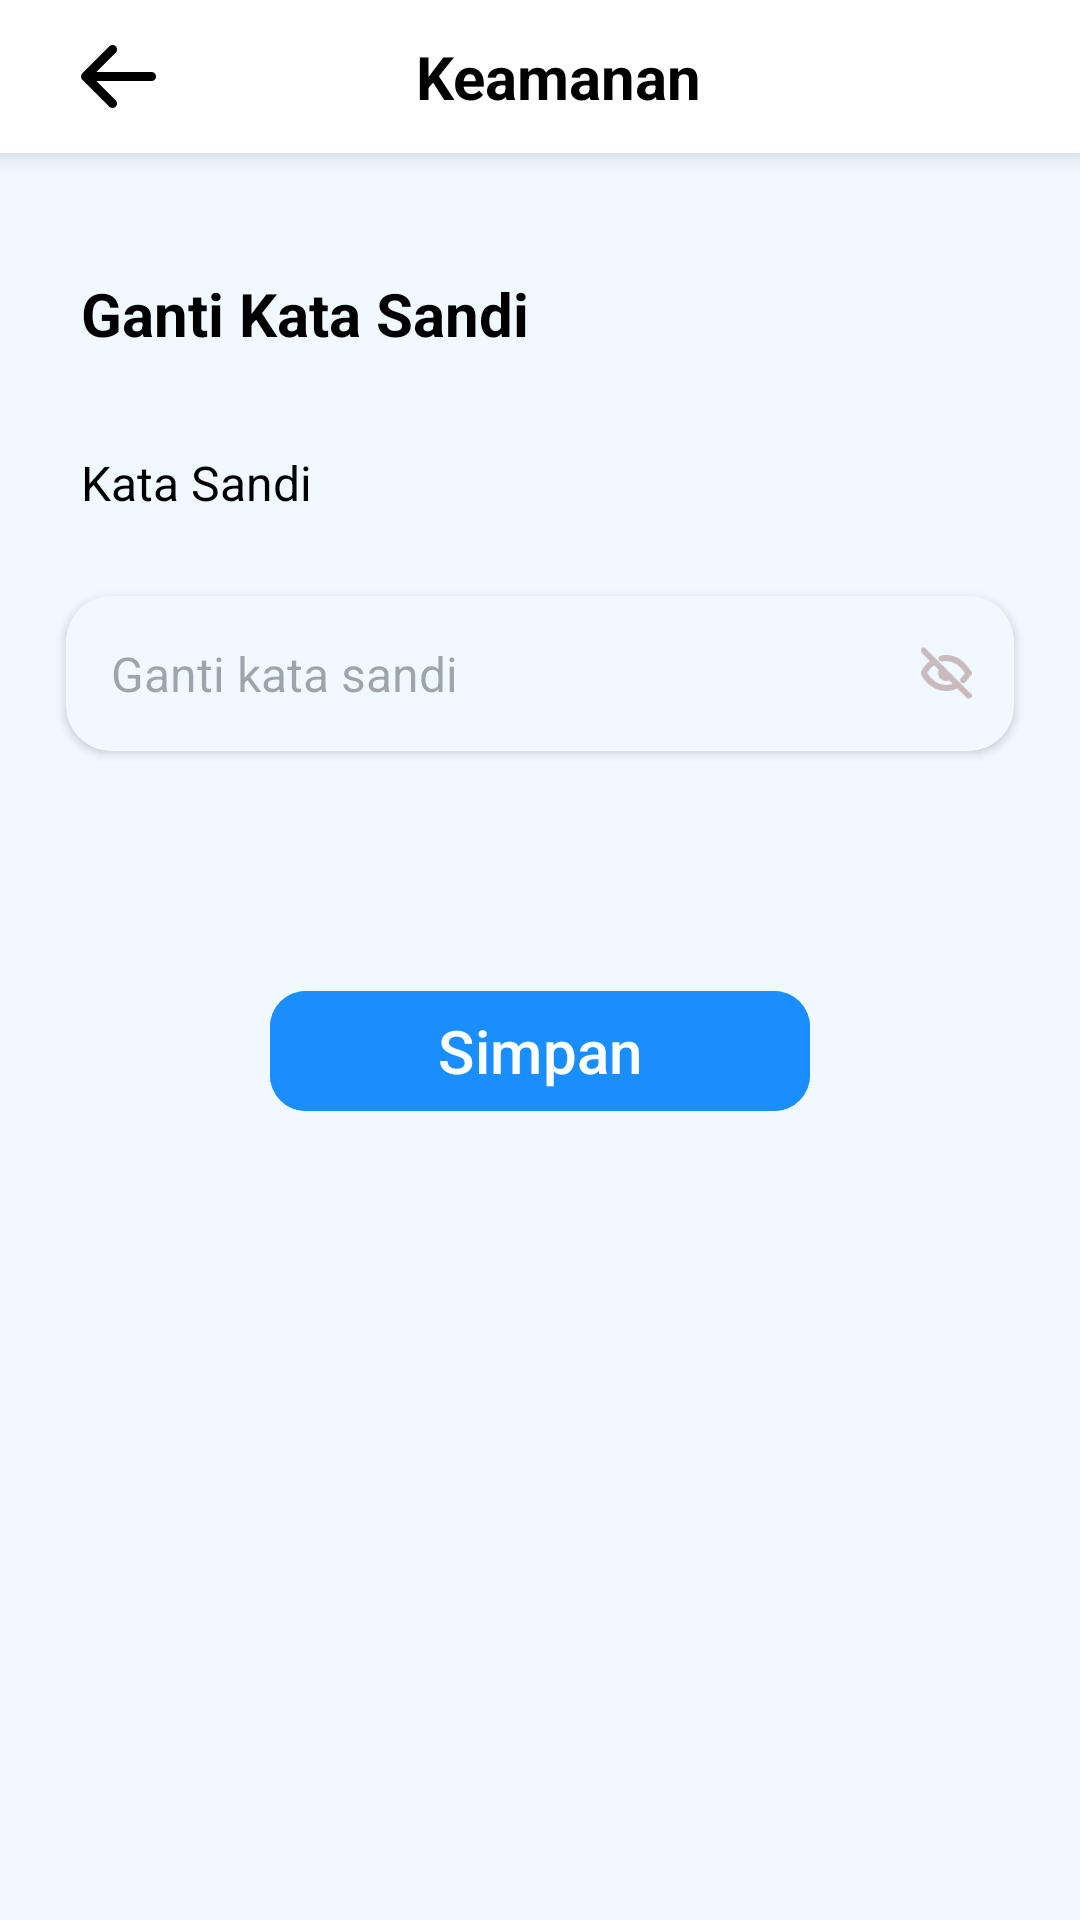

Locate icon controls on the screen. Image size 1080 × 1920, boxes as region(x1, y1, x2, y2).
back: region(81, 45, 156, 108)
